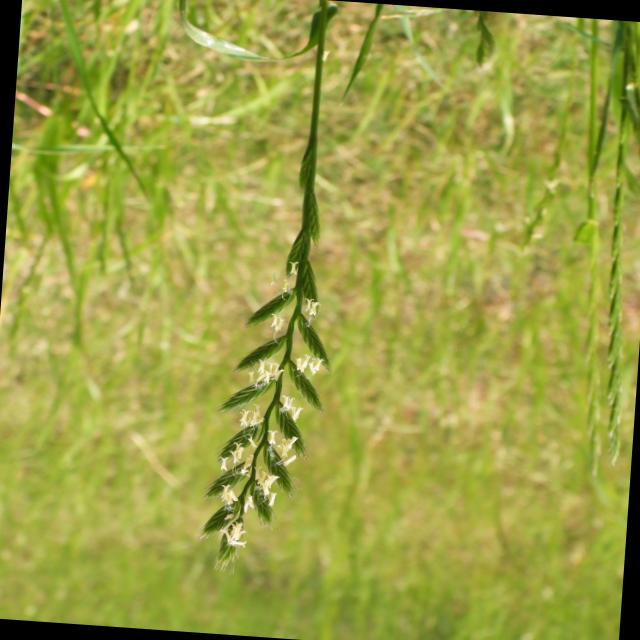Lolium: (190, 0, 361, 581)
